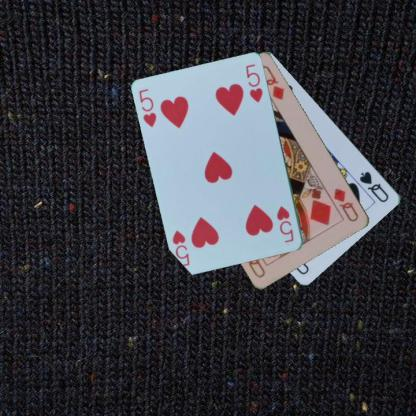5h: (136, 86, 158, 128), (274, 204, 296, 244)
Qd: (331, 185, 361, 223)
Qs: (357, 169, 391, 204)
